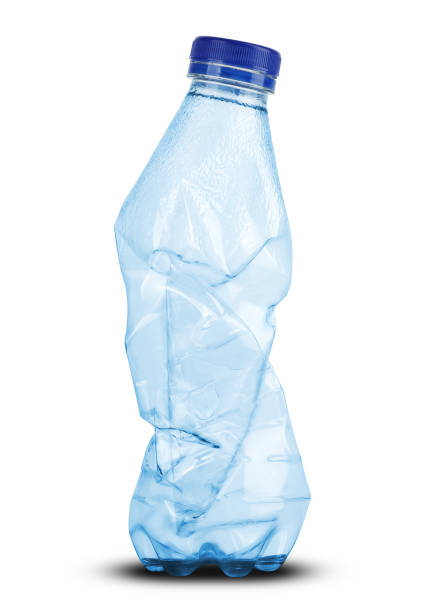plastic_bottle: (111, 34, 315, 575)
